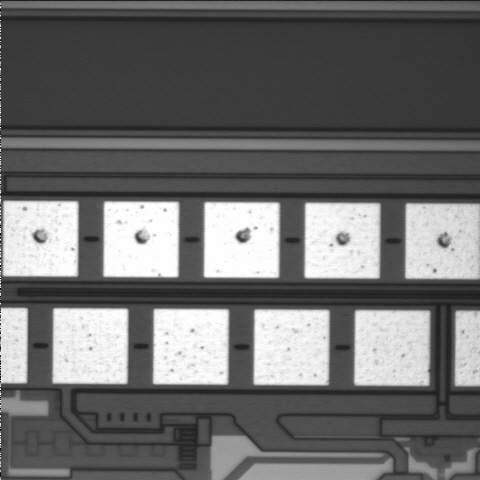pad: (204, 202, 280, 278), (153, 309, 229, 385), (354, 310, 430, 386), (3, 201, 78, 277), (103, 202, 179, 277), (304, 203, 380, 278), (53, 308, 128, 384), (254, 310, 329, 385)
